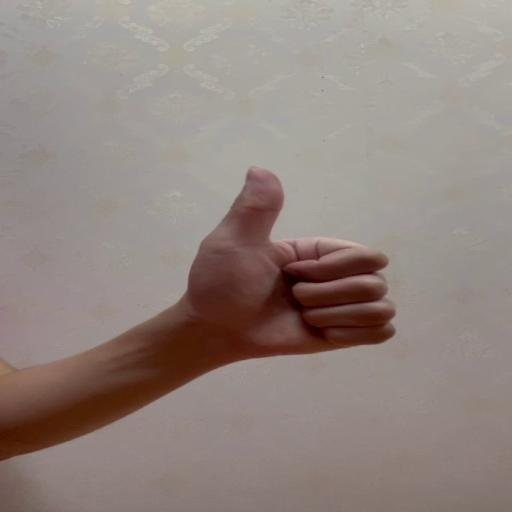thumbs_up: (194, 163, 400, 356)
